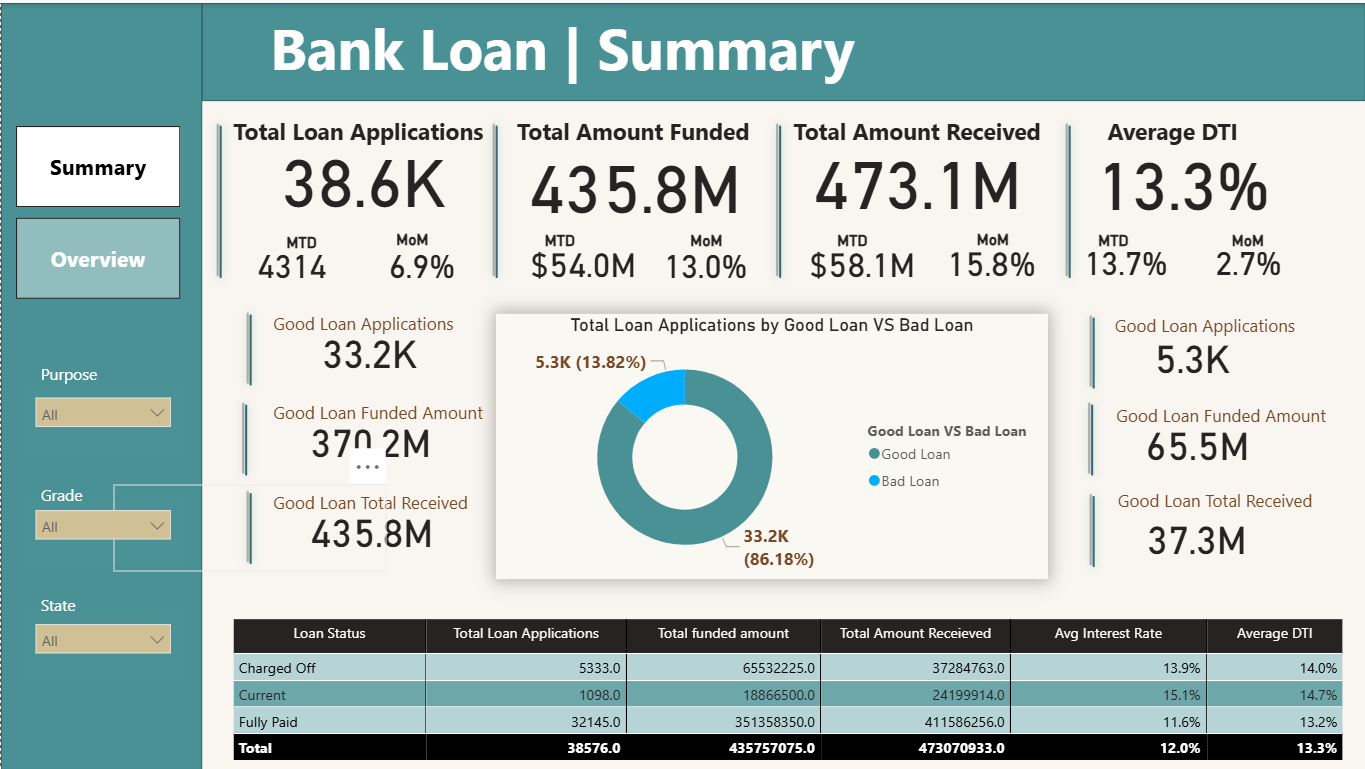

The page's visual inventory and layout, read from the dashboard file:
{"tool":"powerbi","page":{"name":"Summary","canvas":[1280,720],"ordinal":0},"visuals":[{"type":"shape","box":[0,0,188.6,720],"z":0},{"type":"card","title":"Total Loan Applications","fields":{"Values":["Measures (2).TotalLoanApplications"]},"box":[217.3,90.7,243.8,138],"z":1000},{"type":"shape","box":[188.6,0,1090.9,91.9],"z":2000},{"type":"multiRowCard","title":"MTD","fields":{"Values":["Measures (2).MTD_ totalloan","Measures (2).MoM _toatal loan"]},"box":[228.7,209.8,257,94.5],"z":3000},{"type":"textbox","box":[189,100.2,292.9,60.5],"z":4000},{"type":"textbox","box":[213.5,209.8,136.1,41.6],"z":5000},{"type":"textbox","box":[366.2,207.3,54.5,42.1],"z":6000},{"type":"card","title":"Total Loan Applications","fields":{"Values":["Measures (2).Total funded amount"]},"box":[464.9,96.4,257,138],"z":7000},{"type":"textbox","box":[455.4,100.2,274,58.6],"z":8000},{"type":"textbox","box":[485.7,207.9,77.5,41.6],"z":9000},{"type":"textbox","box":[910.1,207.3,56.1,42.1],"z":10000},{"type":"card","title":"Total Loan Applications","fields":{"Values":["Measures (2).Total Amount Receieved"]},"box":[737,92.6,243.8,138],"z":11000},{"type":"card","title":"MTD","fields":{"Values":["Measures (2).MTD_ amtreceived"]},"box":[744.6,207.9,115.3,56.7],"z":12000},{"type":"textbox","box":[731.3,100.2,255.1,71.8],"z":13000},{"type":"multiRowCard","title":"MTD","fields":{"Values":["Measures (2).MTD_ dtu","Measures (2).MoM_DTI"]},"box":[1003.6,207.3,257.1,93.5],"z":14000},{"type":"card","title":"Total Loan Applications","fields":{"Values":["Measures (2).Average DTI"]},"box":[986.5,94.5,243.8,138],"z":15000},{"type":"textbox","box":[640.6,207.9,66.1,41.6],"z":16000},{"type":"textbox","box":[759.7,207.9,77.5,41.6],"z":17000},{"type":"textbox","box":[1003.5,207.9,77.5,41.6],"z":18000},{"type":"textbox","box":[1149,207.9,56.7,41.6],"z":19000},{"type":"textbox","box":[965.7,100.2,264.6,71.8],"z":20000},{"type":"card","title":"MTD","fields":{"Values":["Measures (2).MoM_fundedamt"]},"box":[597.2,209.8,113.4,56.7],"z":21000},{"type":"card","title":"MTD","fields":{"Values":["Measures (2).MTD_fundedAmt"]},"box":[481.9,207.9,115.3,56.7],"z":22000},{"type":"card","title":"MTD","fields":{"Values":["Measures (2).MoM_amtreceievd"]},"box":[864.9,207.3,115.3,56.1],"z":23000},{"type":"shape","box":[601.6,107.5,257.1,159],"z":24000},{"type":"shape","box":[336.6,107.5,257.1,159],"z":25000},{"type":"shape","box":[77.9,107.5,257.1,159],"z":26000},{"type":"shape","box":[872.7,107.5,257.1,159],"z":27000},{"type":"donutChart","fields":{"Y":["Measures (2).Total Loan Applications"],"Category":["financial_loan.Good Loan VS Bad Loan"]},"box":[464.4,291.4,517.4,249.4],"z":28000},{"type":"card","fields":{"Values":["Measures (2).total good loan"]},"box":[271.2,283.1,148.1,87.3],"z":29000},{"type":"card","fields":{"Values":["Measures (2).total funded good loan"]},"box":[271.2,370.4,149.6,79.5],"z":30000},{"type":"card","fields":{"Values":["Measures (2).total amnt received good loan"]},"box":[283.6,445.2,126.2,95.1],"z":31000},{"type":"textbox","box":[249.9,284.2,240,39],"z":32000},{"type":"textbox","box":[249.9,366.8,240,39],"z":33000},{"type":"textbox","box":[249.9,450.9,240,39],"z":34000},{"type":"shape","box":[104.9,284.2,257.1,82.6],"z":35000},{"type":"shape","box":[101.3,367.8,257.1,82.6],"z":36000},{"type":"shape","box":[104.9,450.9,257.1,82.6],"z":37000},{"type":"card","fields":{"Values":["Measures (2).total bad loan"]},"box":[1042.6,286.8,148.1,87.3],"z":38000},{"type":"card","fields":{"Values":["Measures (2).total funded bad loan"]},"box":[1046.9,373.1,149.6,79.5],"z":39000},{"type":"card","fields":{"Values":["Measures (2).total amnt received bad loan"]},"box":[1058.2,453.5,126.2,95.1],"z":40000},{"type":"textbox","box":[1040.6,369.5,240,39],"z":41000},{"type":"shape","box":[895.7,286.9,257.1,82.6],"z":42000},{"type":"shape","box":[894.5,367.8,257.1,82.6],"z":43000},{"type":"shape","box":[895.7,453.6,257.1,82.6],"z":44000},{"type":"textbox","box":[1039.5,285.2,240,39],"z":45000},{"type":"textbox","box":[1042.6,450.4,226,39],"z":46000},{"type":"tableEx","fields":{"Values":["financial_loan.loan_status","Measures (2).Total Loan Applications","Measures (2).Total funded amount","Measures (2).Total Amount Receieved","Data_Table.Avg Interest Rate","Measures (2).Average DTI"]},"box":[196.4,571.9,1072.2,148.1],"z":47000},{"type":"slicer","fields":{"Values":["financial_loan.grade"]},"box":[21.8,466,146.5,59.2],"z":48000},{"type":"slicer","fields":{"Values":["financial_loan.address_state"]},"box":[21.8,571.9,146.5,59.2],"z":49000},{"type":"slicer","fields":{"Values":["financial_loan.purpose"]},"box":[21.8,360,146.5,59.2],"z":50000},{"type":"textbox","box":[32.7,331.9,88.8,35.8],"z":51000},{"type":"textbox","box":[32.7,445.7,88.8,35.8],"z":52000},{"type":"textbox","box":[32.7,548.6,88.8,35.8],"z":53000},{"type":"textbox","box":[247.8,0,687.3,90.4],"z":54000},{"type":"pageNavigator","box":[14,115.3,154.3,162.1],"z":55000}]}

Visuals, with their boxes in screenshot pixels (x1, y1, x2, y2), scaled from the page's 1280x720 canvas onto the 1365x769 screenshot:
shape: bbox=(0, 0, 201, 768)
"Total Loan Applications" card: bbox=(232, 97, 492, 244)
shape: bbox=(201, 0, 1364, 98)
"MTD" multiRowCard: bbox=(244, 224, 518, 325)
textbox: bbox=(202, 107, 514, 172)
textbox: bbox=(228, 224, 373, 269)
textbox: bbox=(391, 221, 449, 266)
"Total Loan Applications" card: bbox=(496, 103, 770, 250)
textbox: bbox=(486, 107, 778, 170)
textbox: bbox=(518, 222, 601, 266)
textbox: bbox=(971, 221, 1030, 266)
"Total Loan Applications" card: bbox=(786, 99, 1046, 246)
"MTD" card: bbox=(794, 222, 917, 283)
textbox: bbox=(780, 107, 1052, 184)
"MTD" multiRowCard: bbox=(1070, 221, 1344, 321)
"Total Loan Applications" card: bbox=(1052, 101, 1312, 248)
textbox: bbox=(683, 222, 754, 266)
textbox: bbox=(810, 222, 893, 266)
textbox: bbox=(1070, 222, 1153, 266)
textbox: bbox=(1225, 222, 1286, 266)
textbox: bbox=(1030, 107, 1312, 184)
"MTD" card: bbox=(637, 224, 758, 285)
"MTD" card: bbox=(514, 222, 637, 283)
"MTD" card: bbox=(922, 221, 1045, 281)
shape: bbox=(642, 115, 916, 285)
shape: bbox=(359, 115, 633, 285)
shape: bbox=(83, 115, 357, 285)
shape: bbox=(931, 115, 1205, 285)
donutChart - Measures (2).Total Loan Applications x financial_loan.Good Loan VS Bad Loan: bbox=(495, 311, 1047, 578)
card - Measures (2).total good loan: bbox=(289, 302, 447, 396)
card - Measures (2).total funded good loan: bbox=(289, 396, 449, 481)
card - Measures (2).total amnt received good loan: bbox=(302, 475, 437, 577)
textbox: bbox=(266, 304, 522, 345)
textbox: bbox=(266, 392, 522, 433)
textbox: bbox=(266, 482, 522, 523)
shape: bbox=(112, 304, 386, 392)
shape: bbox=(108, 393, 382, 481)
shape: bbox=(112, 482, 386, 570)
card - Measures (2).total bad loan: bbox=(1112, 306, 1270, 400)
card - Measures (2).total funded bad loan: bbox=(1116, 398, 1276, 483)
card - Measures (2).total amnt received bad loan: bbox=(1128, 484, 1263, 586)
textbox: bbox=(1110, 395, 1364, 436)
shape: bbox=(955, 306, 1229, 395)
shape: bbox=(954, 393, 1228, 481)
shape: bbox=(955, 484, 1229, 573)
textbox: bbox=(1109, 305, 1364, 346)
textbox: bbox=(1112, 481, 1353, 523)
tableEx - financial_loan.loan_status x Measures (2).Total Loan Applications: bbox=(209, 611, 1353, 768)
slicer - financial_loan.grade: bbox=(23, 498, 179, 561)
slicer - financial_loan.address_state: bbox=(23, 611, 179, 674)
slicer - financial_loan.purpose: bbox=(23, 384, 179, 448)
textbox: bbox=(35, 354, 130, 393)
textbox: bbox=(35, 476, 130, 514)
textbox: bbox=(35, 586, 130, 624)
textbox: bbox=(264, 0, 997, 97)
pageNavigator: bbox=(15, 123, 179, 296)
